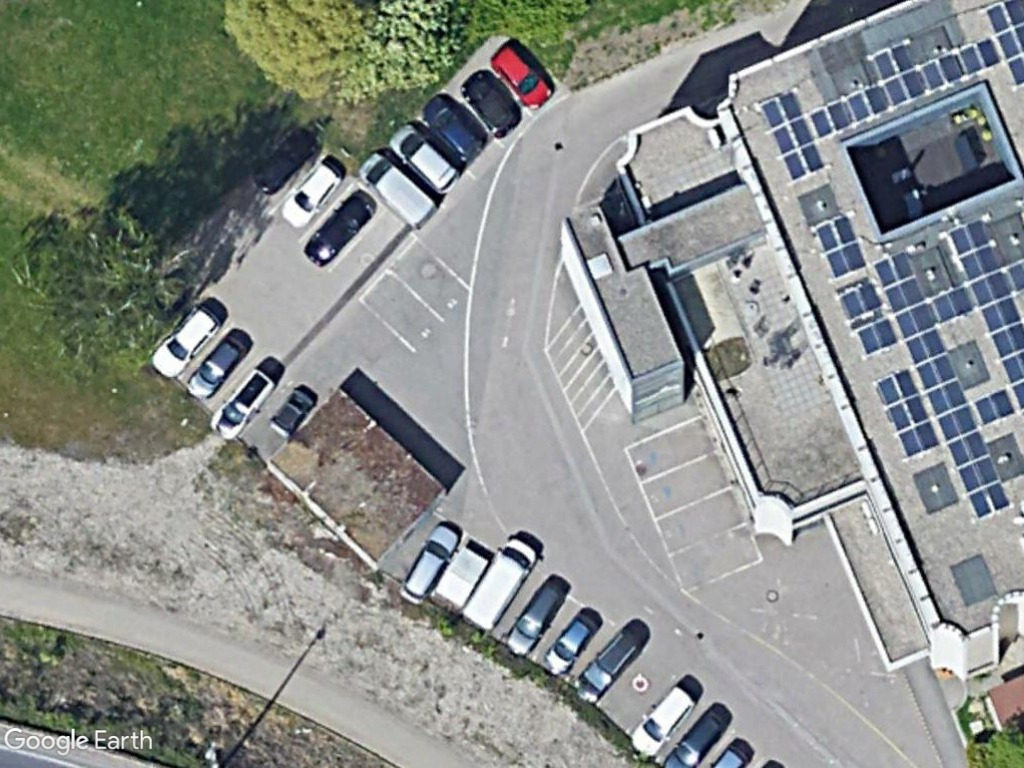car: (384, 118, 462, 199), (147, 302, 220, 384), (395, 522, 467, 605), (206, 362, 278, 443), (301, 191, 372, 271), (572, 628, 644, 705), (626, 682, 696, 760), (417, 91, 487, 167), (184, 324, 253, 401), (501, 576, 566, 657), (276, 157, 345, 230), (486, 41, 555, 113), (457, 68, 523, 139), (542, 610, 599, 676)
van: (458, 531, 541, 634), (352, 150, 439, 232)
